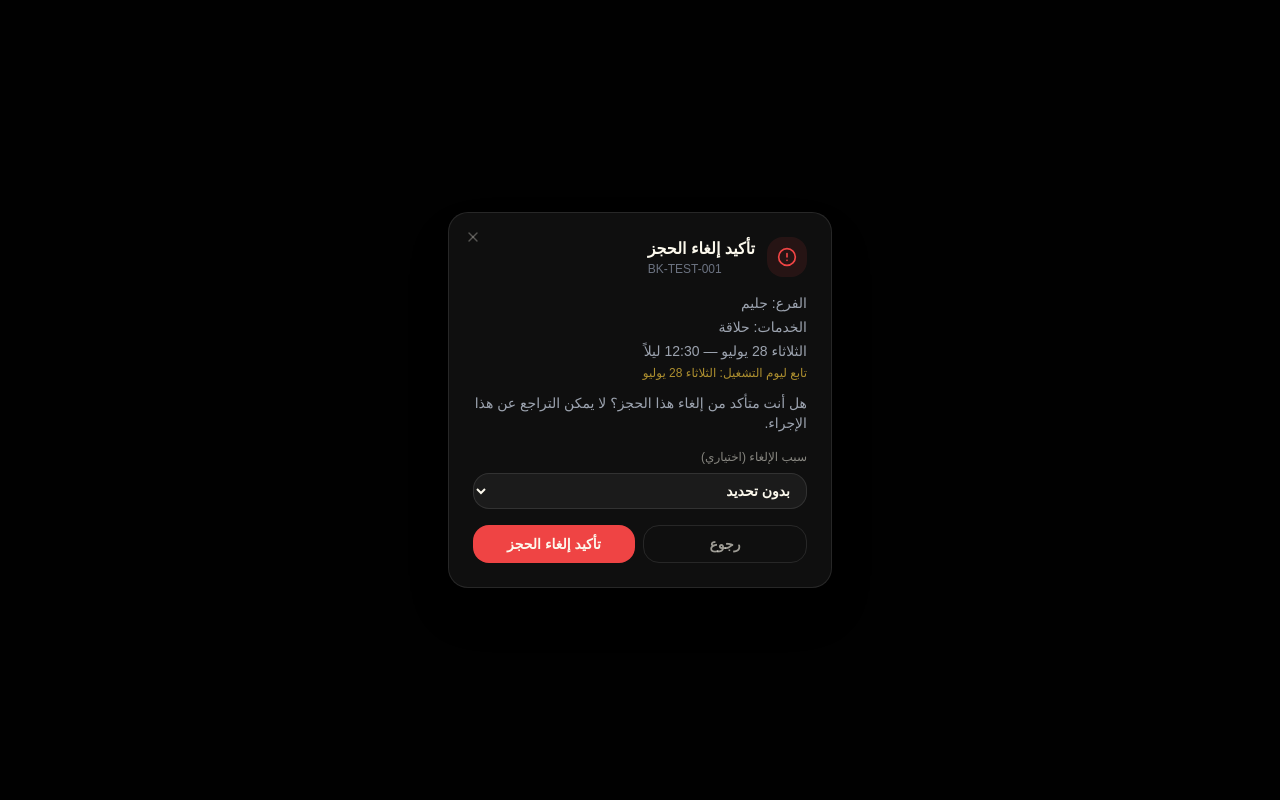
Test case: BookingCancelIdempotency / Unknown / Policy › unknown outcome shows safe Arabic and does not say فشل الإلغاء
What coordinates should you click on to do the following:
click the button "تأكيد إلغاء الحجز"
I would click on:
 (554, 544)
Its box is [473, 525, 635, 563].
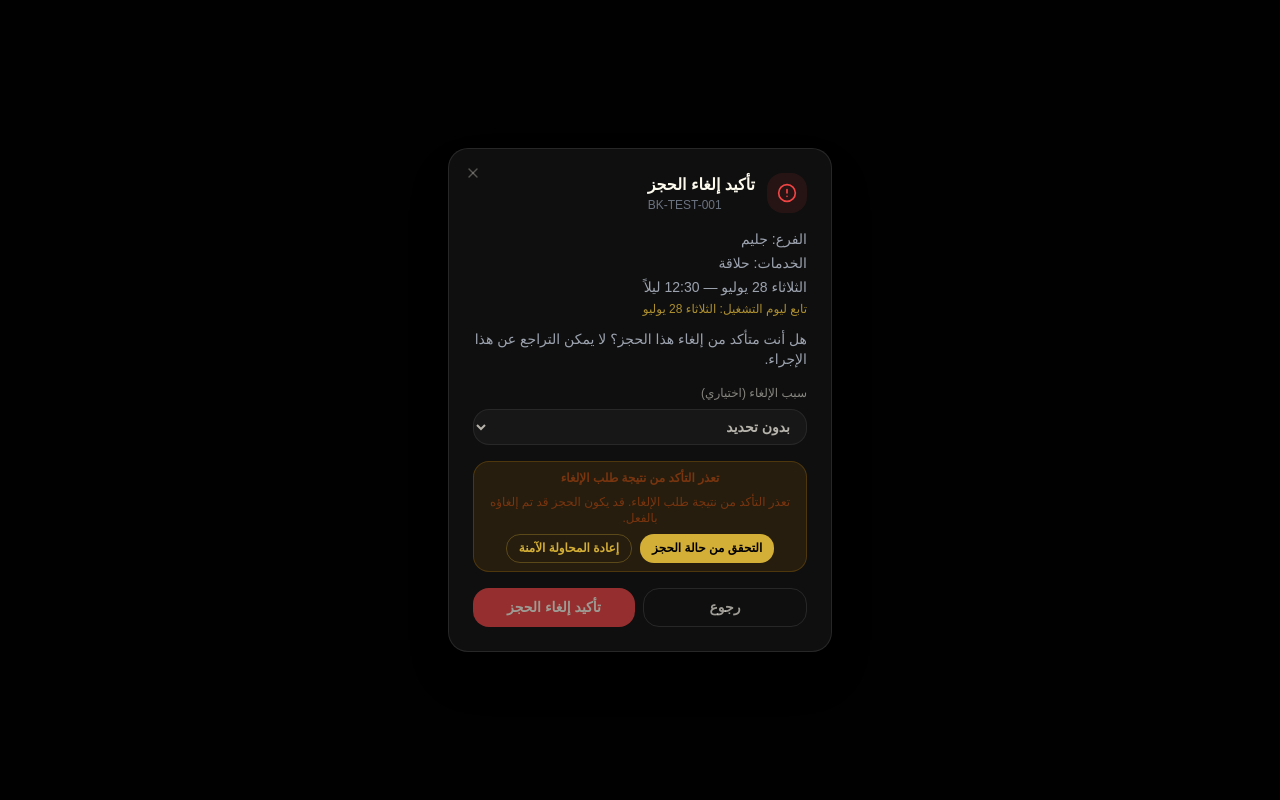
Expected: the button "إعادة المحاولة الآمنة" is shown, [506, 534, 632, 563]
